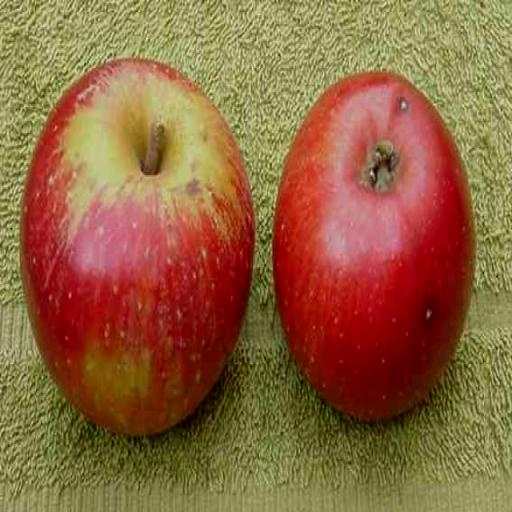fruit: (21, 60, 254, 434), (274, 73, 475, 419)
